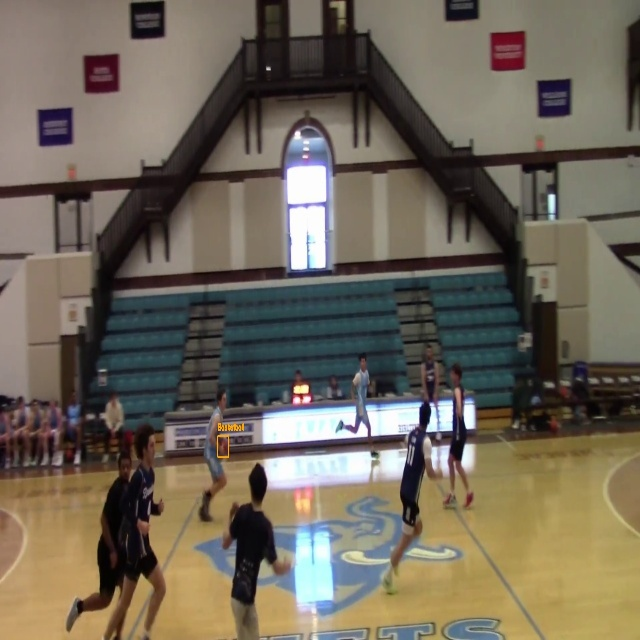Basketball: (218, 436, 229, 457)
